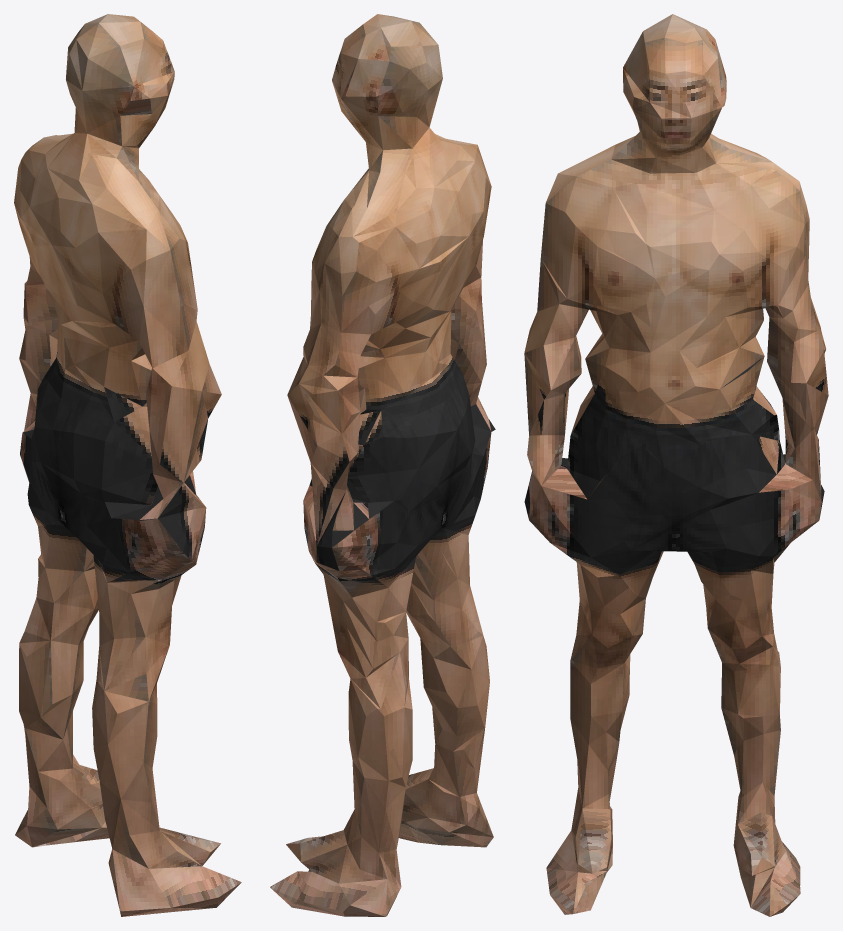
Rendered from personaje.base.cuerpo_comun_2.glb.
3 renders of one model, left to right at view 1: azimuth 30°, elevation 25°; view 2: azimuth 150°, elevation 25°; view 3: azimuth 270°, elevation 25°, orthographic.
Visible parts, largest first — view 1: personaje.base.cuerpo_comun_2; view 2: personaje.base.cuerpo_comun_2; view 3: personaje.base.cuerpo_comun_2.
Part boxes in pixels (left/top/right/bottom): personaje.base.cuerpo_comun_2: left=14, top=14, right=241, bottom=916; personaje.base.cuerpo_comun_2: left=270, top=14, right=495, bottom=916; personaje.base.cuerpo_comun_2: left=524, top=14, right=828, bottom=916.
Bounding box in the file's own units: 0.3022 × 1.71 × 0.5405.
Materials: 1 (1 with a texture image).
